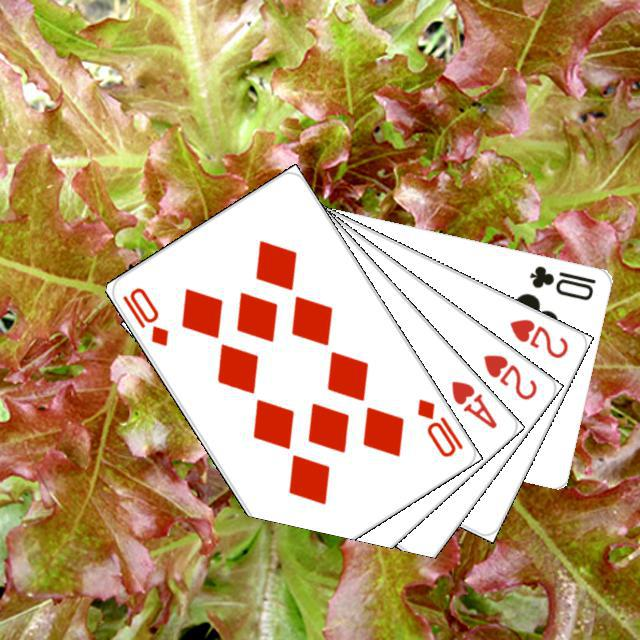10c: (524, 260, 598, 303)
10d: (411, 393, 465, 459), (117, 282, 171, 348)
2h: (478, 349, 539, 402), (504, 314, 570, 360)
Ah: (446, 375, 499, 431)
